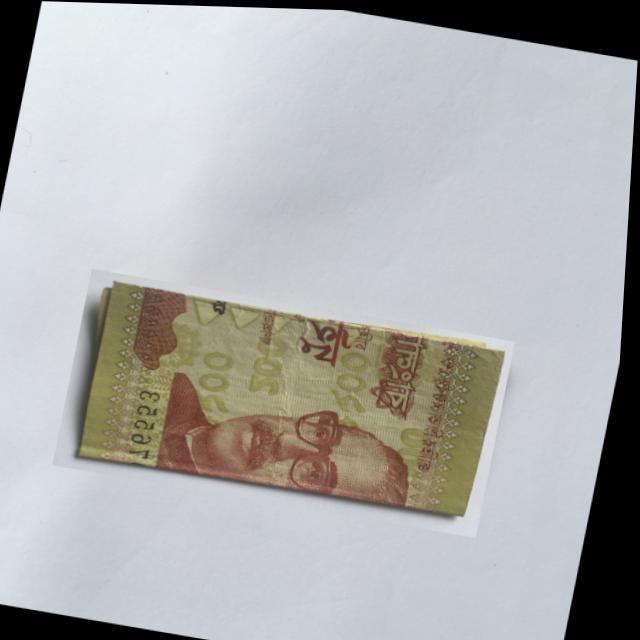Taka: (55, 268, 522, 535)
